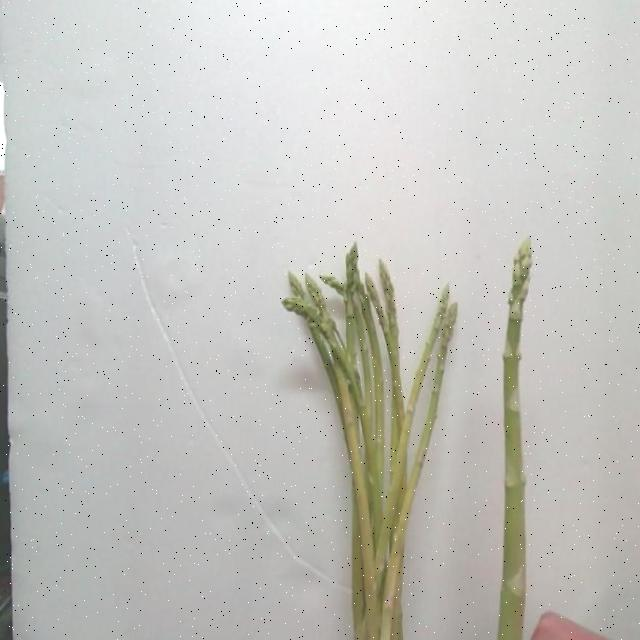aspargus: (496, 239, 533, 640)
